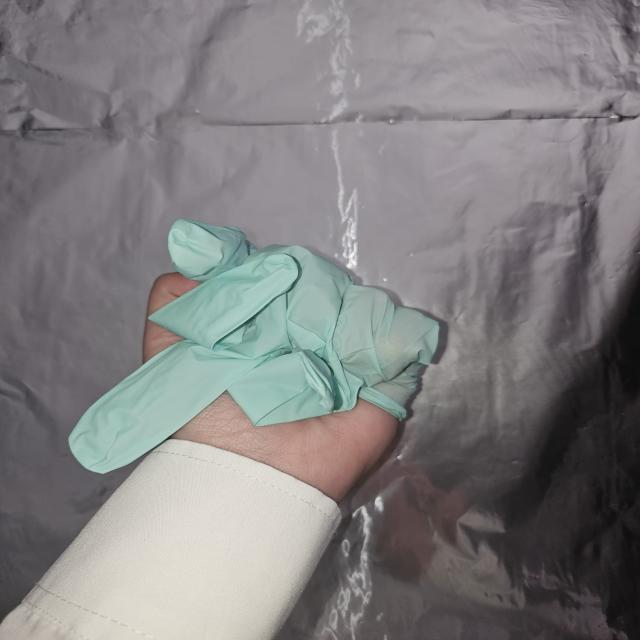glove_partial: (68, 217, 444, 477)
